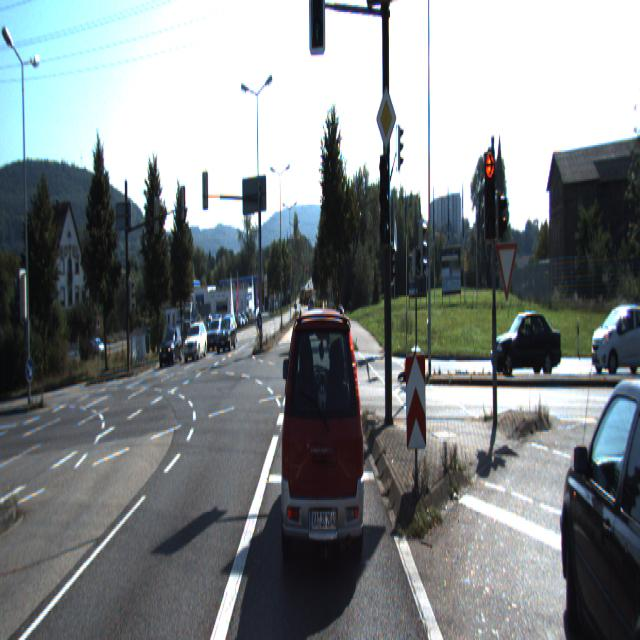Car: (554, 354, 639, 638), (280, 291, 366, 561), (489, 302, 562, 376), (590, 301, 640, 375), (159, 328, 182, 368), (183, 323, 207, 360), (216, 316, 236, 352)
